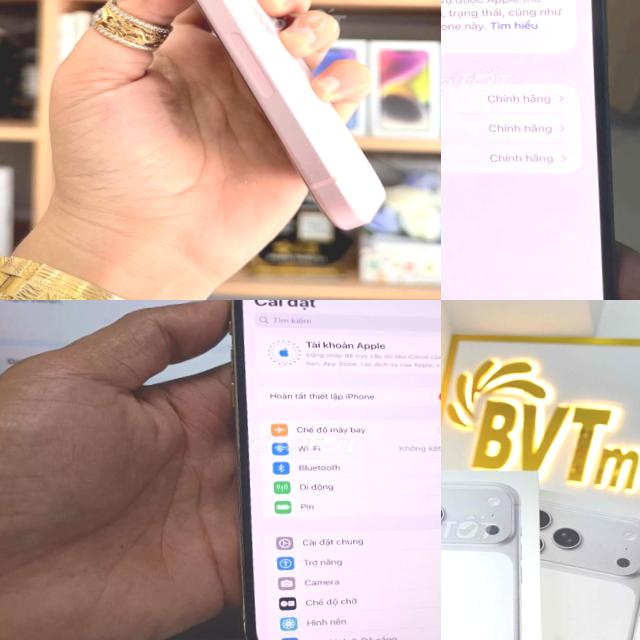gen_12_13: (211, 300, 441, 640)
gen_14: (441, 0, 640, 300)
gen_15: (78, 0, 413, 248)
gen_17: (441, 460, 535, 640)
